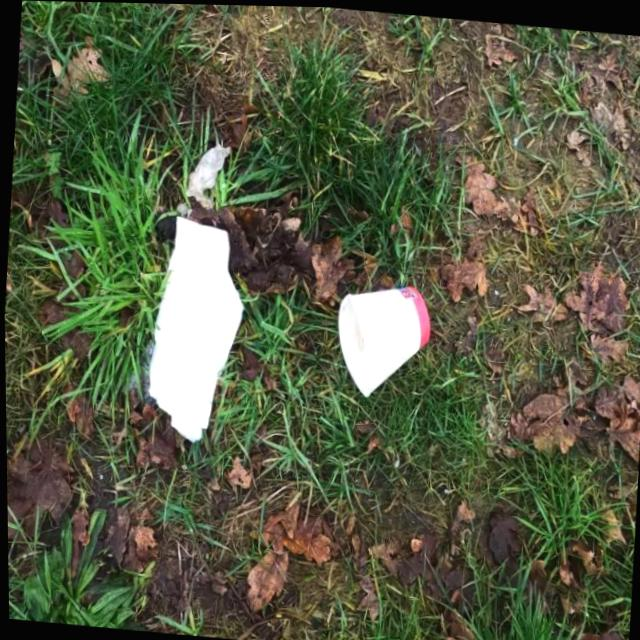Cup: (329, 274, 434, 403)
